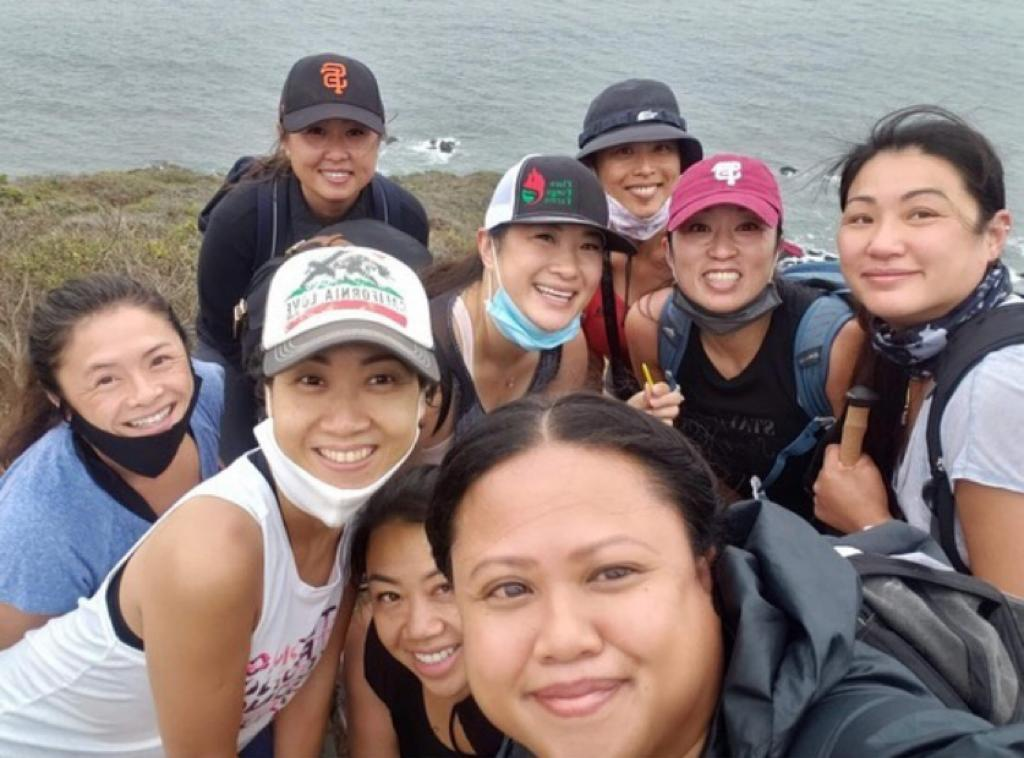mouth: (523, 674, 632, 718), (400, 642, 461, 676), (309, 443, 381, 469), (857, 265, 924, 287), (531, 282, 582, 307), (126, 407, 180, 430), (700, 267, 743, 291), (315, 166, 356, 186), (623, 182, 662, 200)
nose: (533, 634, 604, 664), (318, 418, 370, 437), (399, 622, 443, 640), (867, 242, 904, 259), (127, 388, 162, 405), (549, 264, 579, 280), (705, 246, 739, 259), (321, 152, 349, 162), (632, 166, 655, 177)
